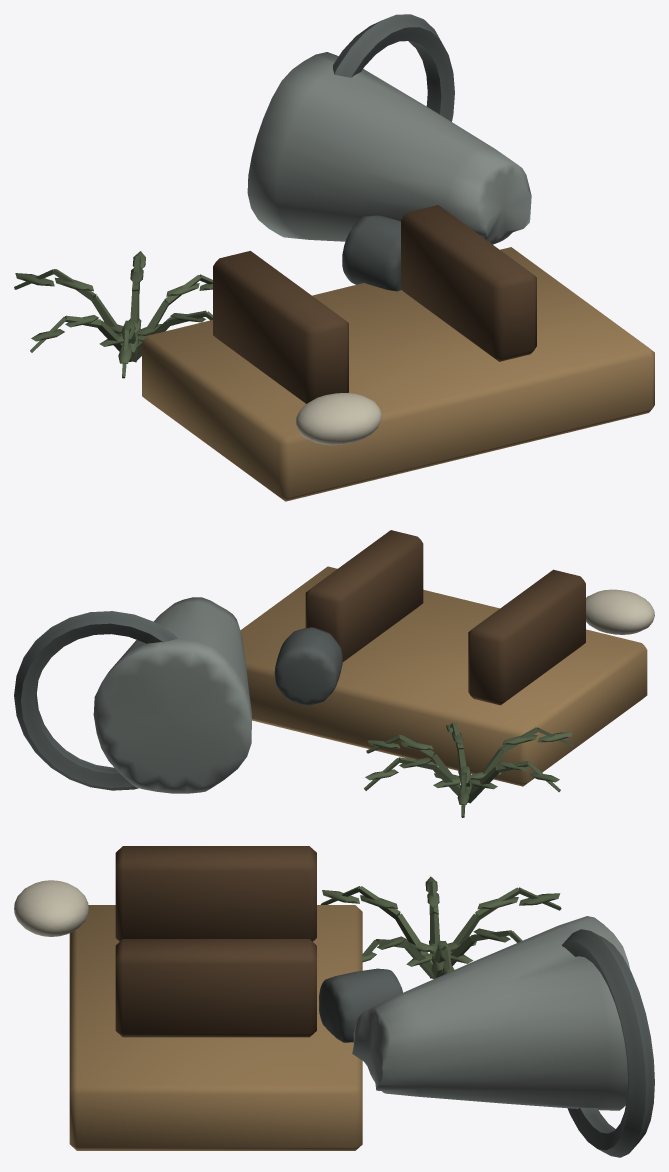
File: echo_horn_b.glb
The picture shows the model from 3 angles, top to bottom: view 1: azimuth 30°, elevation 25°; view 2: azimuth 150°, elevation 25°; view 3: azimuth 270°, elevation 25°; orthographic projection. The views are drawn at different scales.
Visible parts, largest first — view 1: Surface; view 2: Surface; view 3: Surface.
Part boxes in pixels (bbox=[...]): Surface: bbox=[14, 14, 654, 501]; Surface: bbox=[14, 530, 654, 817]; Surface: bbox=[14, 846, 654, 1157].
Size of the model in its own units: 3.36 by 1.27 by 3.5.
